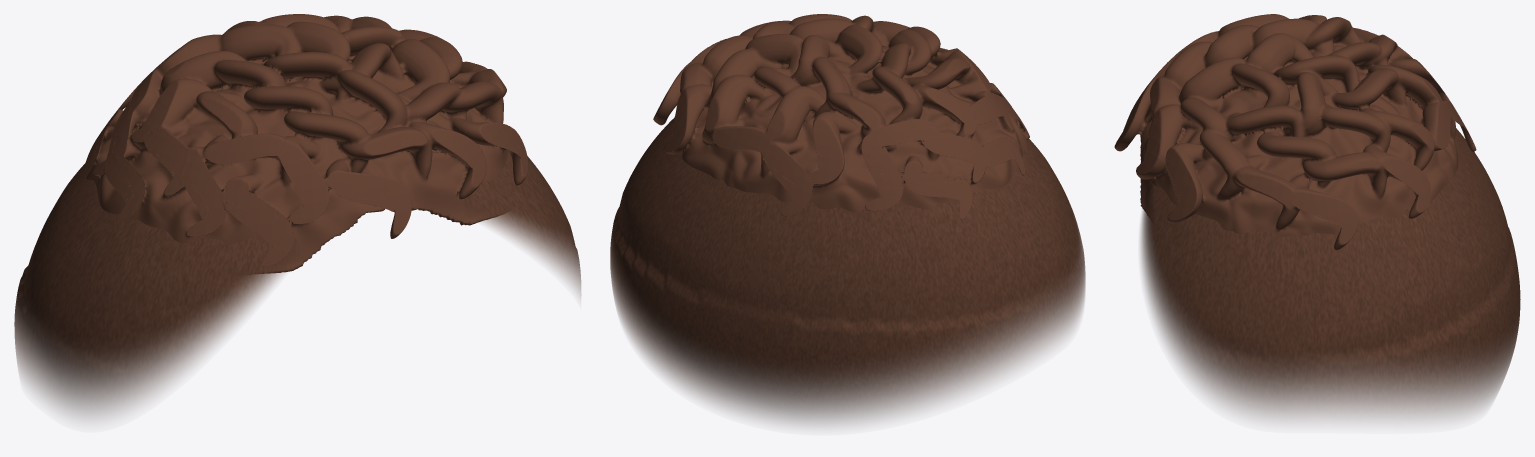
File: Masculine-curly-top-beanie252-hair.glb
3 renders of one model, left to right at view 1: azimuth 30°, elevation 25°; view 2: azimuth 150°, elevation 25°; view 3: azimuth 270°, elevation 25°, orthographic. The views are drawn at different scales.
Parts seen in each view (by area): view 1: 226 hair / Hair252 / sculpted curl groups.001, 226 hair / Hair252 / curly close fade coverage.001; view 2: 226 hair / Hair252 / curly close fade coverage.001, 226 hair / Hair252 / sculpted curl groups.001; view 3: 226 hair / Hair252 / curly close fade coverage.001, 226 hair / Hair252 / sculpted curl groups.001.
Boxes of the visible parts, x1=… form: 226 hair / Hair252 / sculpted curl groups.001: x1=71, y1=14, x2=528, y2=273; 226 hair / Hair252 / curly close fade coverage.001: x1=14, y1=152, x2=580, y2=418; 226 hair / Hair252 / curly close fade coverage.001: x1=610, y1=118, x2=1085, y2=425; 226 hair / Hair252 / sculpted curl groups.001: x1=653, y1=14, x2=1029, y2=219; 226 hair / Hair252 / curly close fade coverage.001: x1=1140, y1=128, x2=1520, y2=420; 226 hair / Hair252 / sculpted curl groups.001: x1=1114, y1=14, x2=1476, y2=250.
Size of the model in its own units: 0.976 by 0.7233 by 0.7553.
2 materials, 1 textured.
